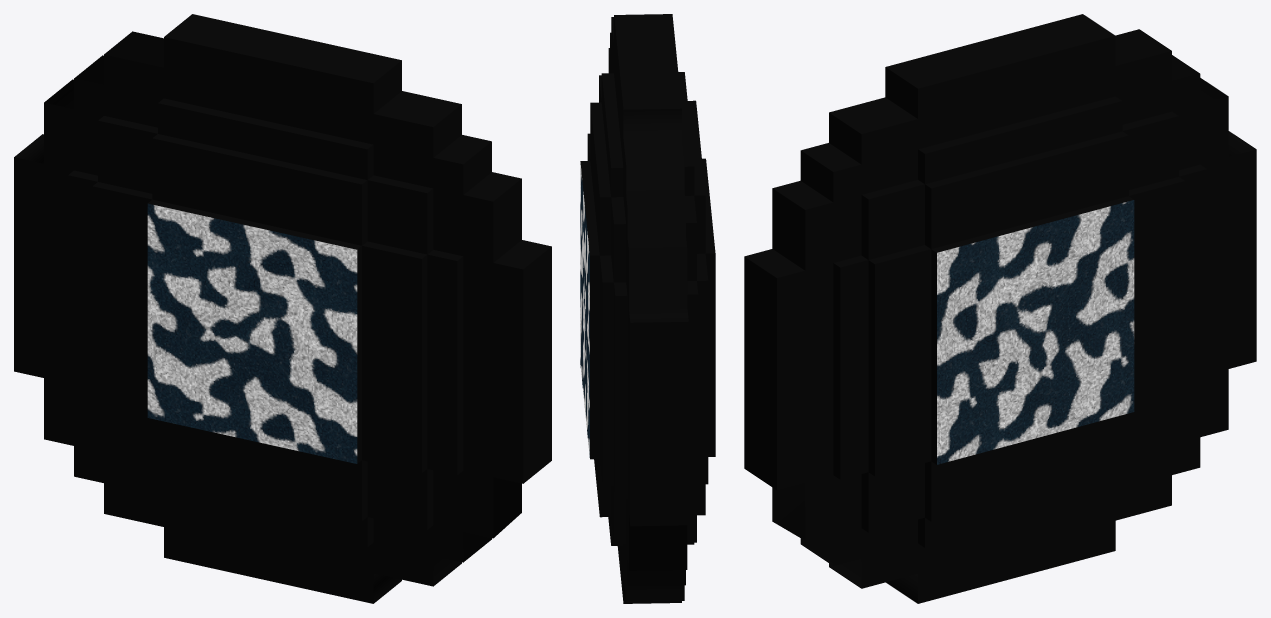
Rendered from Coin3.fbx.
3 renders of one model, left to right at view 1: azimuth 30°, elevation 25°; view 2: azimuth 150°, elevation 25°; view 3: azimuth 270°, elevation 25°, orthographic. The views are drawn at different scales.
Visible parts, largest first — view 1: Coin2; view 2: Coin2; view 3: Coin2.
Boxes of the visible parts, x1=… form: Coin2: x1=14, y1=14, x2=551, y2=603; Coin2: x1=580, y1=14, x2=715, y2=603; Coin2: x1=744, y1=14, x2=1256, y2=603.
Size of the model in its own units: 0.3039 by 0.4847 by 0.4371.
